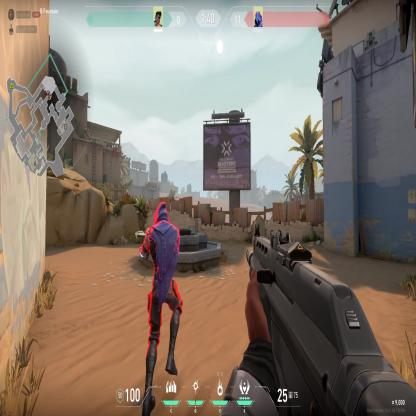enemy: (138, 198, 183, 376)
